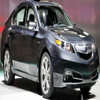Car: (1, 1, 100, 94)
